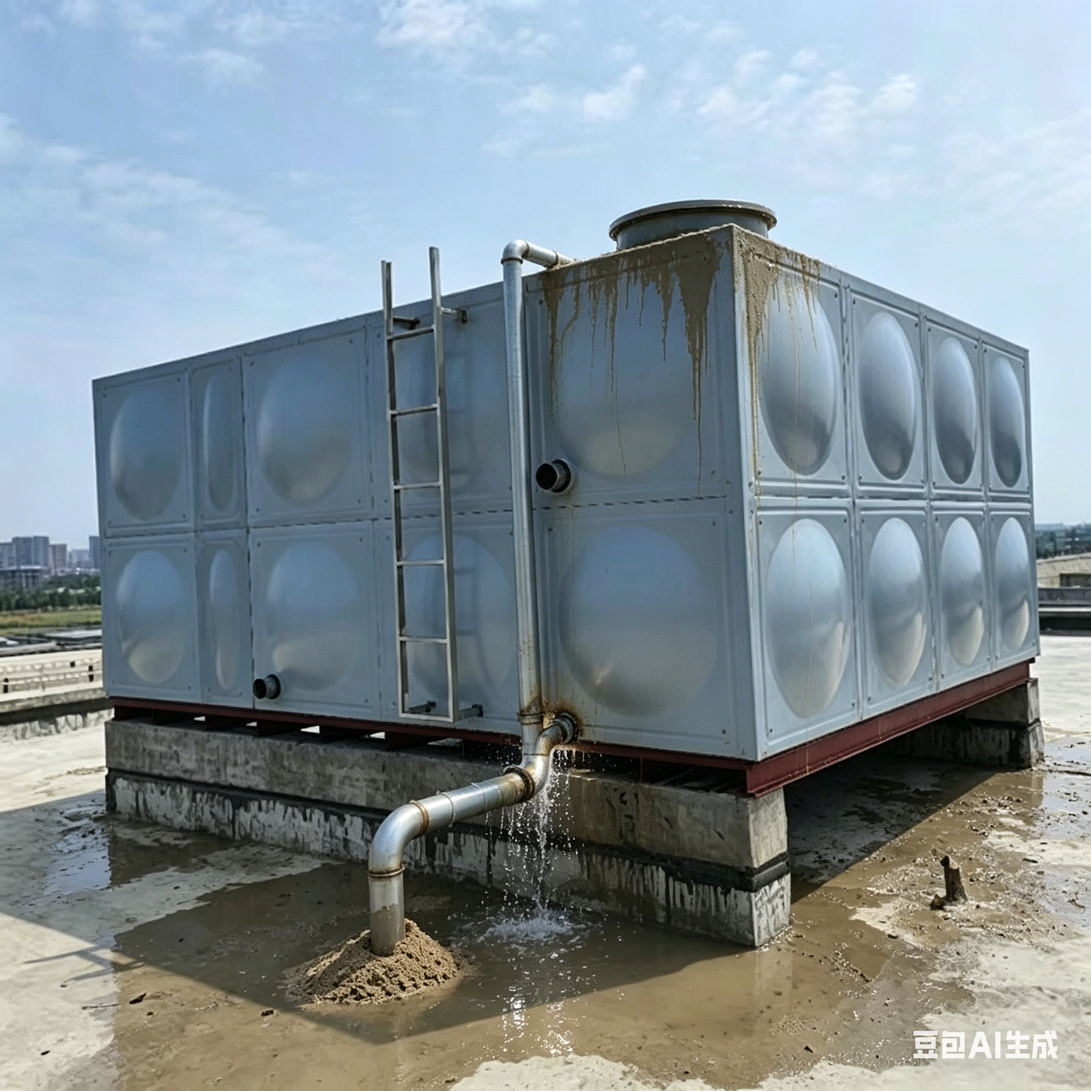Leakage: (136, 929, 929, 1073), (525, 231, 810, 365), (921, 758, 1091, 945), (501, 724, 580, 921), (42, 822, 213, 880), (233, 866, 379, 919)
